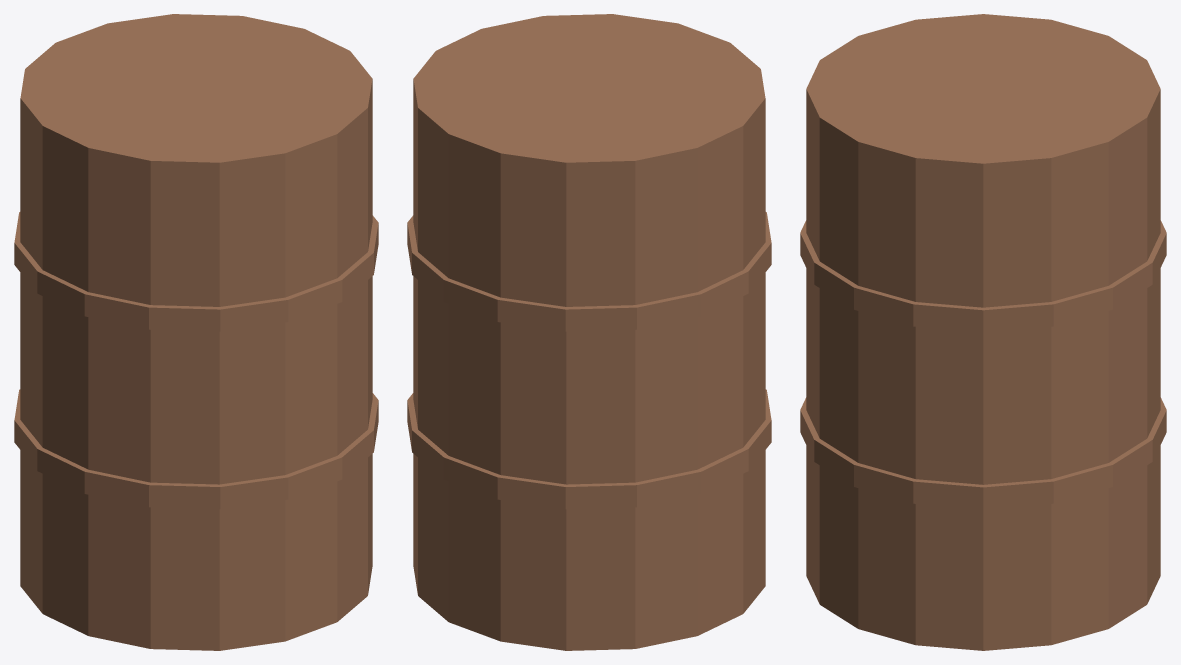
Rendered from drum.glb.
The picture shows the model from 3 angles, left to right: view 1: azimuth 30°, elevation 25°; view 2: azimuth 150°, elevation 25°; view 3: azimuth 270°, elevation 25°; orthographic projection.
Visible parts, largest first — view 1: Drum; view 2: Drum; view 3: Drum.
Boxes of the visible parts, bbox=[...] form: Drum: bbox=[14, 14, 378, 650]; Drum: bbox=[407, 14, 771, 650]; Drum: bbox=[800, 14, 1166, 650].
Bounding box in the file's own units: 0.6 × 0.88 × 0.6.
